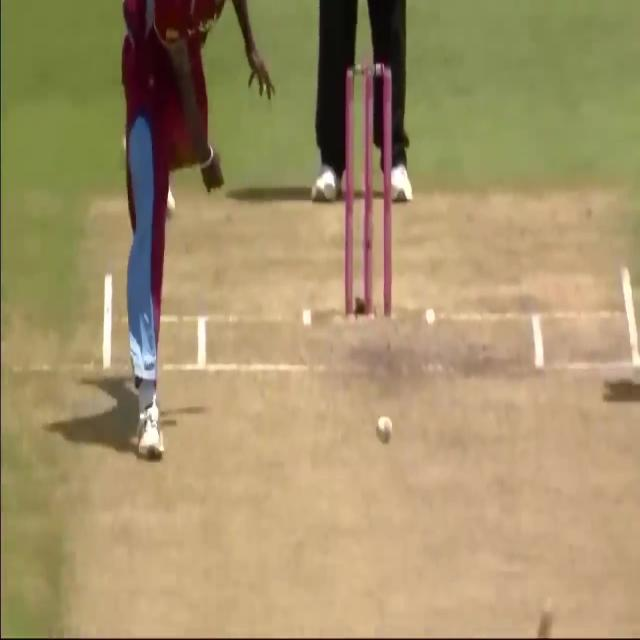Batsman: (372, 404, 396, 449)
Fielder: (115, 0, 275, 460)
Umpire: (302, 0, 418, 216)
